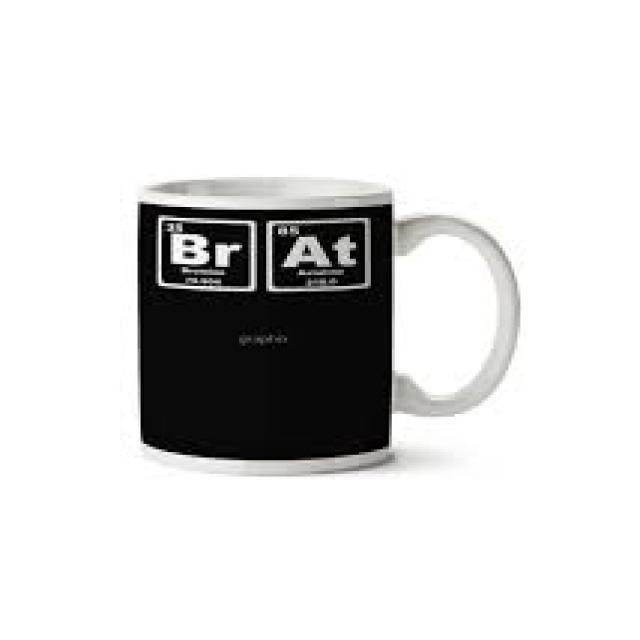taza: (139, 172, 521, 475)
